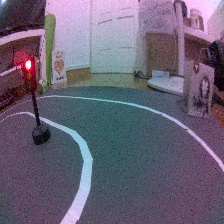red: (19, 54, 50, 144)
